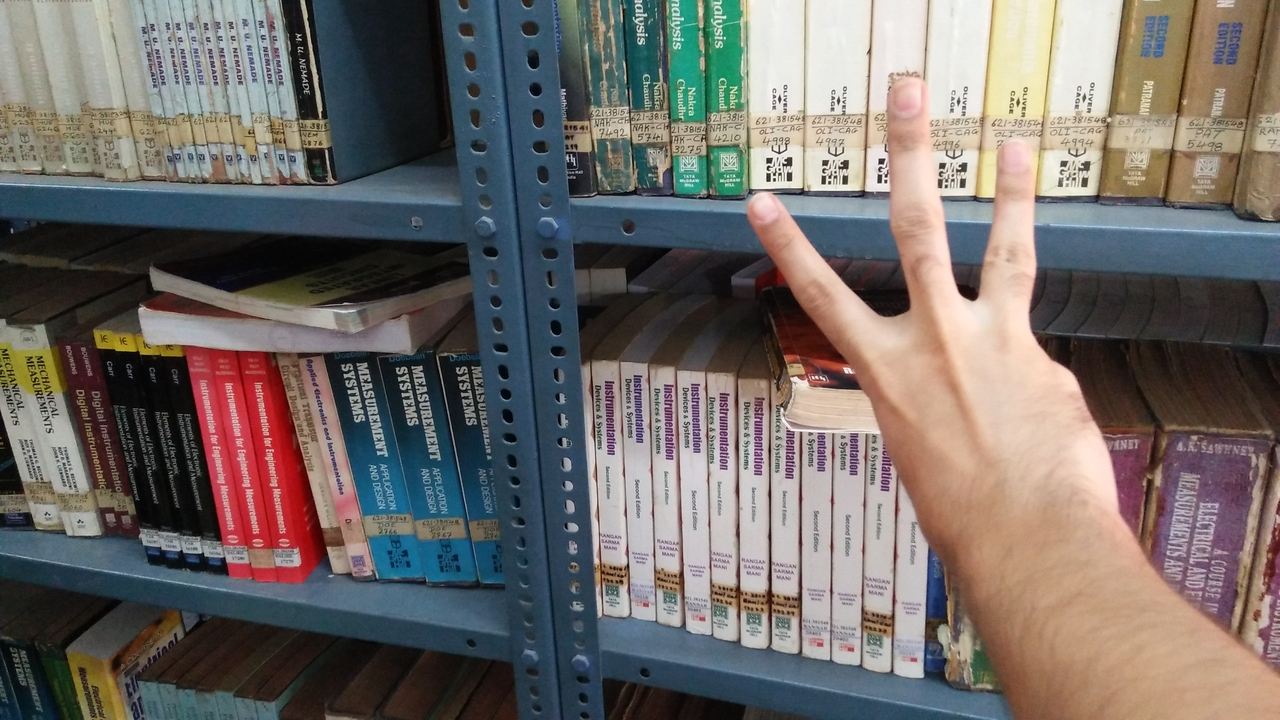fingertip: (740, 180, 792, 230), (996, 130, 1046, 182), (890, 74, 936, 124)
